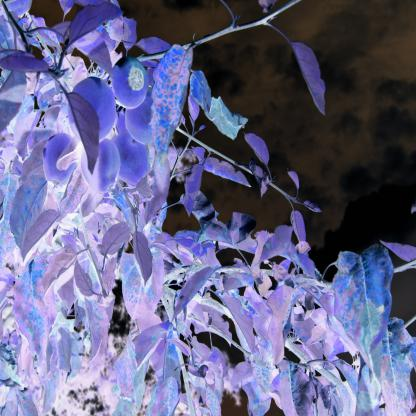apple rust leaf: (325, 233, 395, 359), (9, 256, 60, 373), (151, 45, 195, 176), (250, 331, 315, 416), (123, 239, 168, 337), (7, 171, 57, 258), (377, 320, 415, 416), (106, 327, 148, 408), (152, 373, 178, 416), (198, 384, 226, 416)
